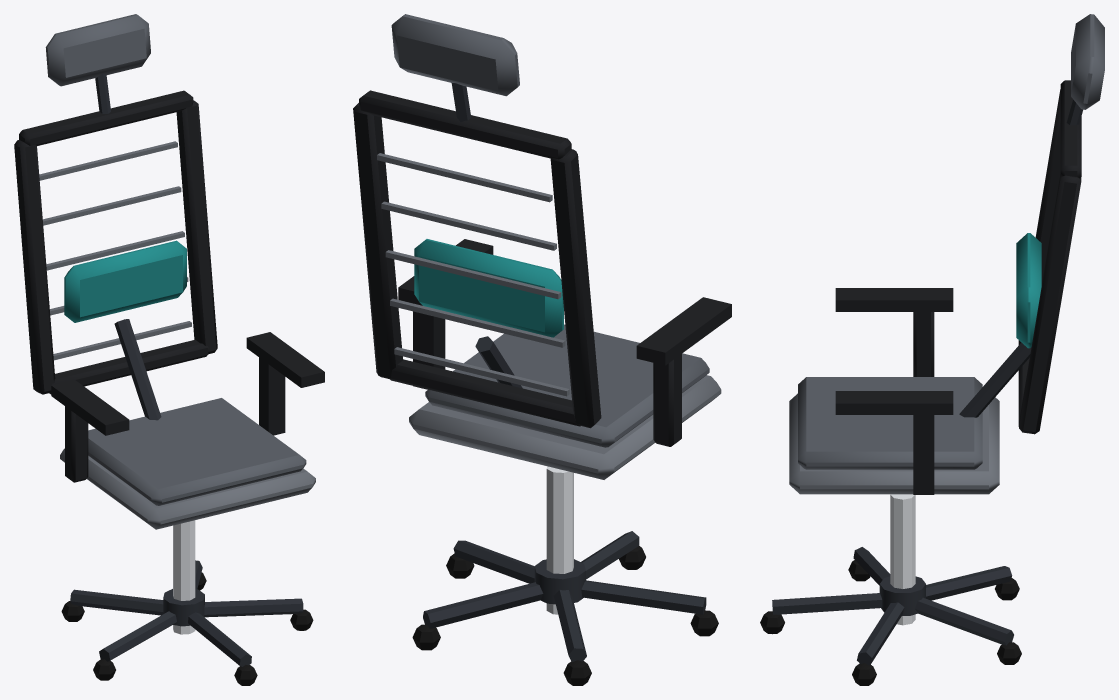
Rendered from chair_ergonomic_chair.glb.
3 views of the same model, side by side, from view 1: azimuth 30°, elevation 25°; view 2: azimuth 150°, elevation 25°; view 3: azimuth 270°, elevation 25° (orthographic). The views are drawn at different scales.
Parts seen in each view (by area): view 1: chair_ergonomic_chair; view 2: chair_ergonomic_chair; view 3: chair_ergonomic_chair.
Boxes of the visible parts, x1,y1,x2,y2 form: chair_ergonomic_chair: (14,14,324,685); chair_ergonomic_chair: (353,14,731,685); chair_ergonomic_chair: (760,14,1104,685).
Size of the model in its own units: 0.65 by 1.57 by 0.8205.
